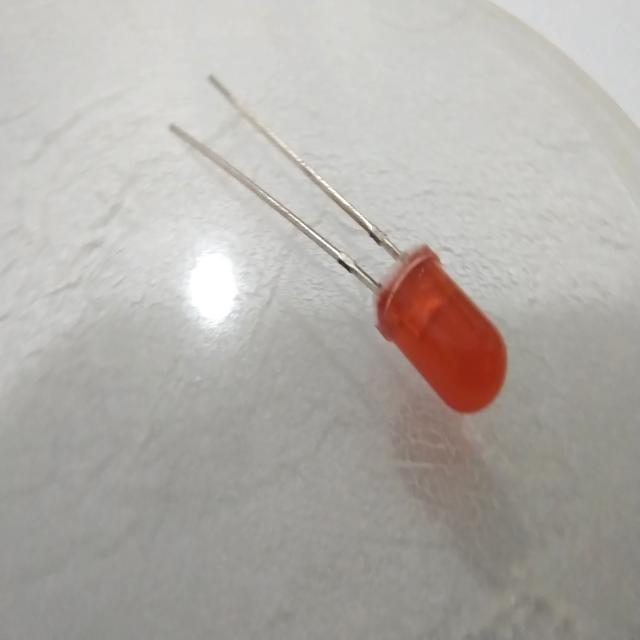red_led: (358, 221, 522, 438)
